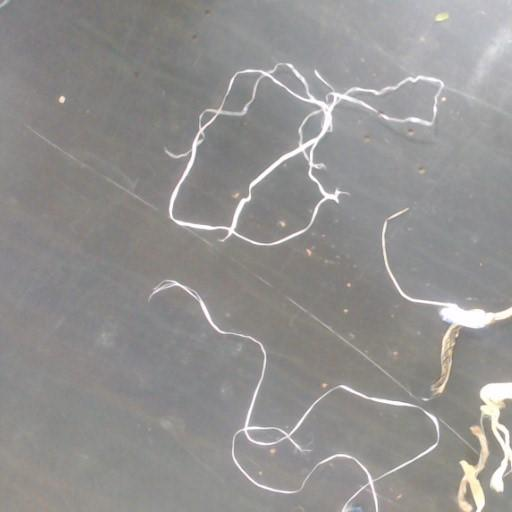conveyor belt: (0, 0, 511, 511), (427, 323, 511, 449), (378, 425, 476, 511)
thread: (149, 280, 438, 511), (166, 63, 443, 246), (382, 208, 511, 394), (457, 382, 511, 511)
